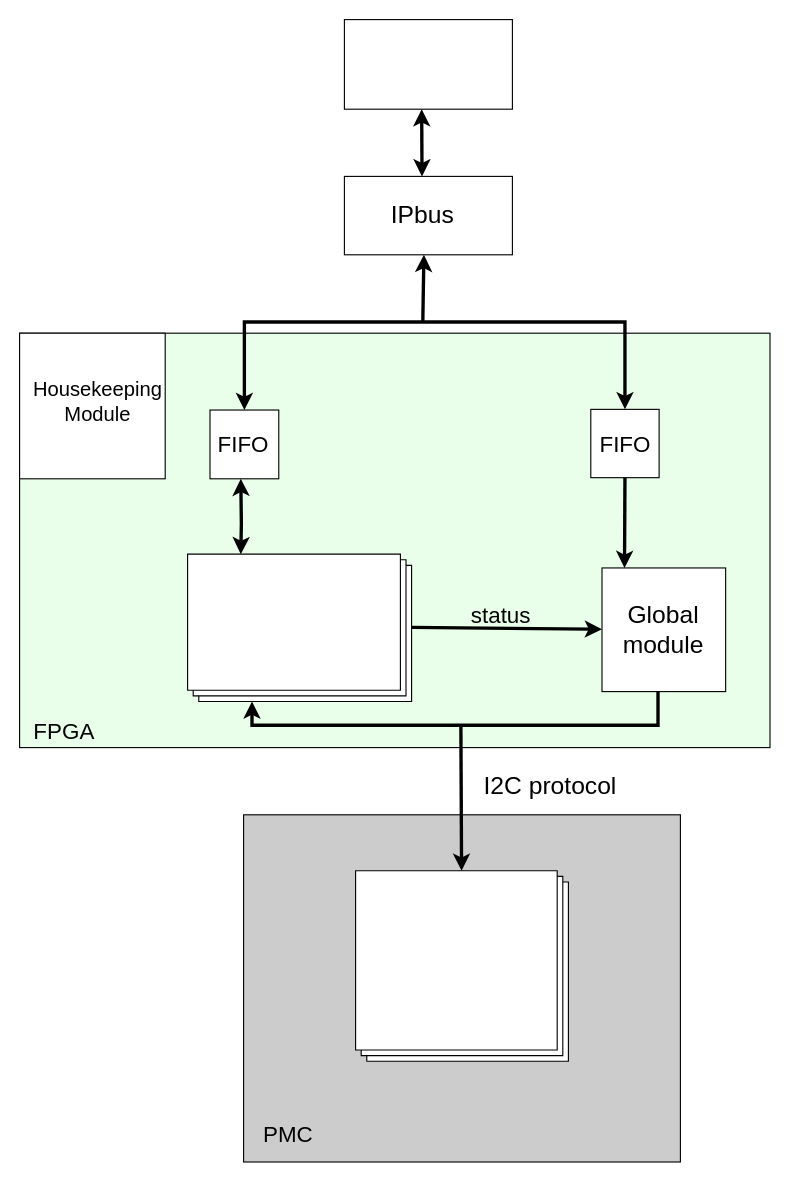
Image size: 790x1182. Some labels were removed from this diagram. Each missing label, with the centre of its shape:
"Client (software)" goes at pixel 427 63.
"Microcontrollers" goes at pixel 461 965.
"Monitor Module" goes at pixel 299 627.
